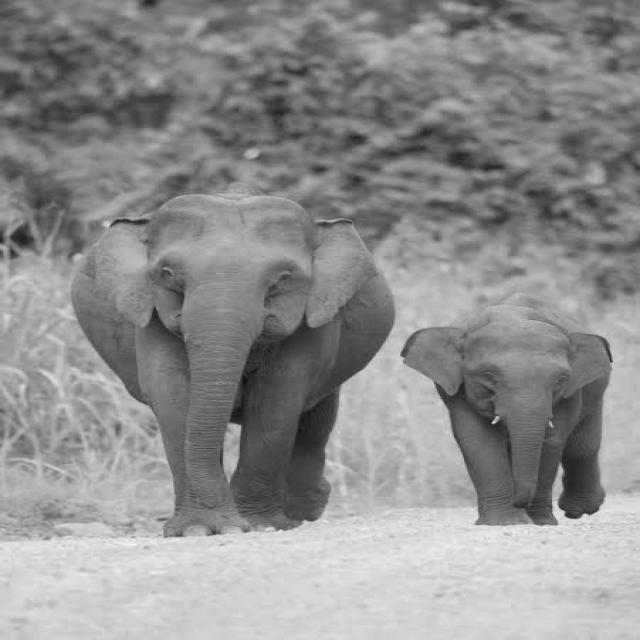Elephant: (69, 181, 396, 537), (399, 292, 613, 525)
